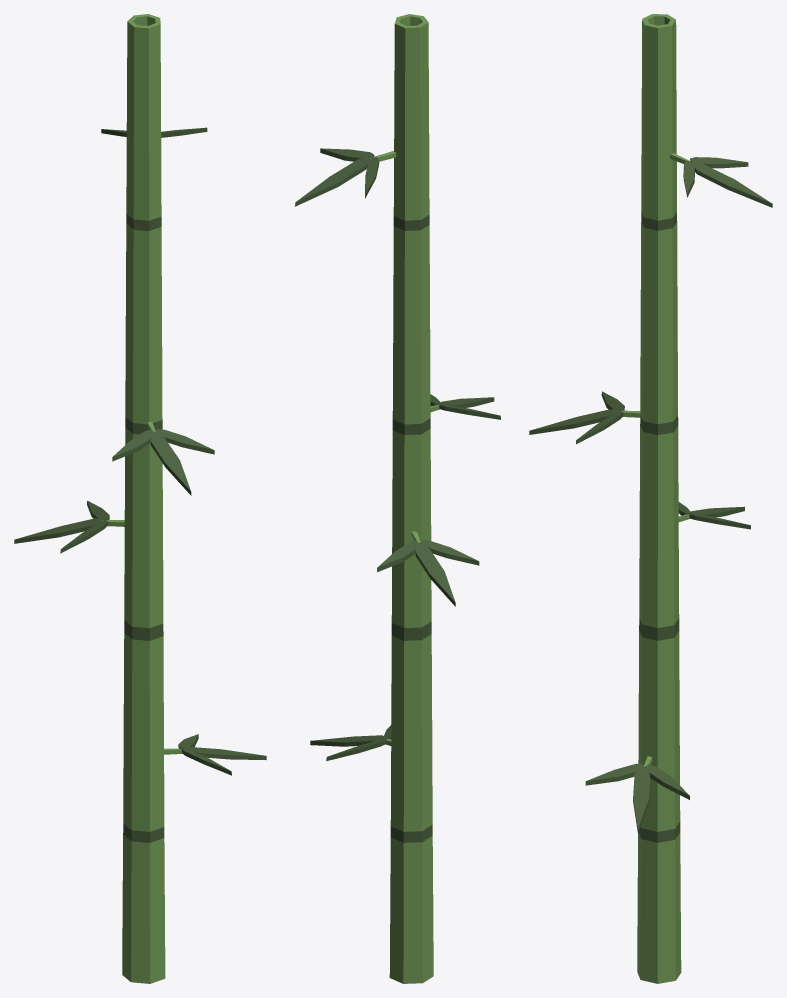
File: Bamboo_3.glb
3 renders of one model, left to right at view 1: azimuth 30°, elevation 25°; view 2: azimuth 150°, elevation 25°; view 3: azimuth 270°, elevation 25°, orthographic.
Visible parts, largest first — view 1: Bamboo_3; view 2: Bamboo_3; view 3: Bamboo_3.
Boxes of the visible parts, x1,y1,x2,y2 form: Bamboo_3: (14,14,266,983); Bamboo_3: (295,14,500,983); Bamboo_3: (529,14,772,983).
Bounding box in the file's own units: 0.3381 × 1.55 × 0.358.
